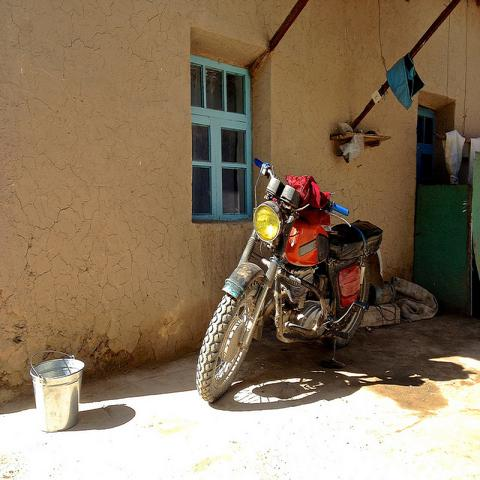motorcycle: (196, 155, 388, 401)
